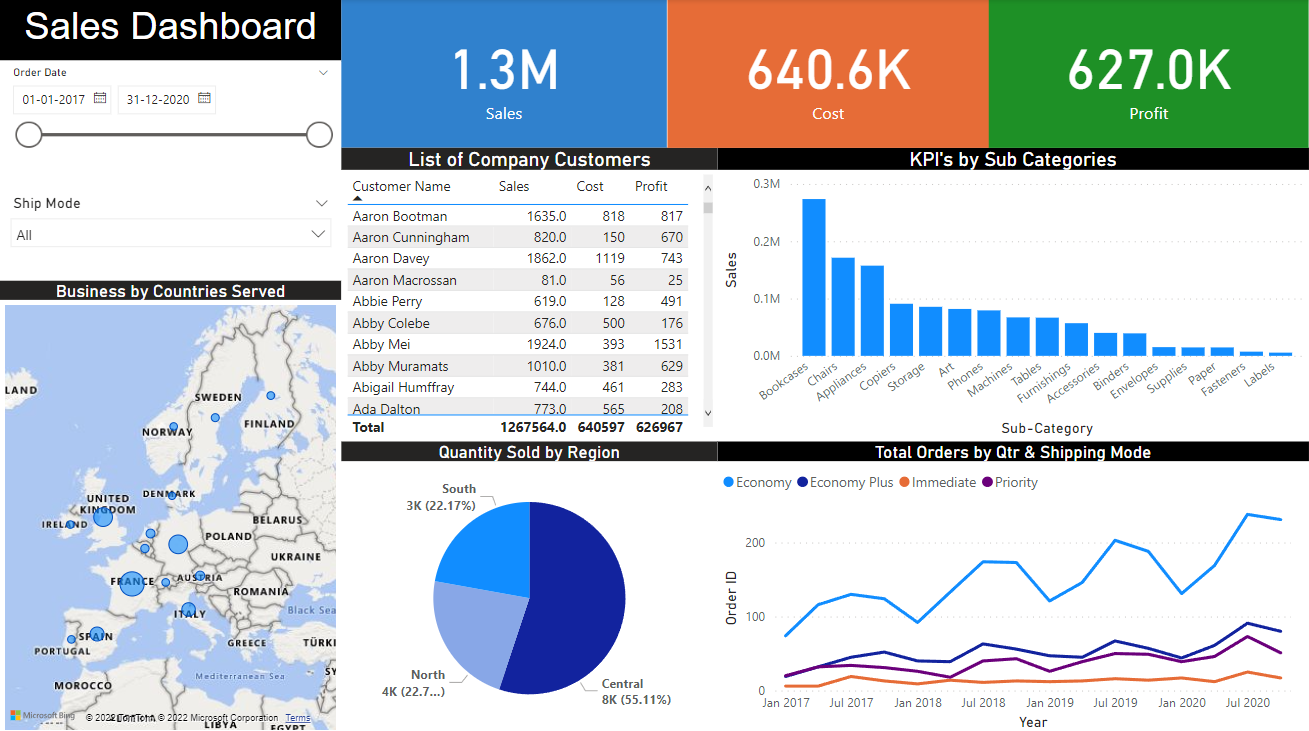

The dashboard page shown, as its layout file describes it:
{"tool":"powerbi","page":{"name":"Page 1","canvas":[1280,720],"ordinal":0},"visuals":[{"type":"card","fields":{"Values":["List of Orders.Sales"]},"box":[333.7,0,318.6,145.6],"z":0},{"type":"tableEx","title":"List of Company Customers","fields":{"Values":["List of Orders.Customer Name","List of Orders.Sales","List of Orders.Cost","List of Orders.Profit"]},"box":[333.7,145.6,368.1,287],"z":1000},{"type":"clusteredColumnChart","title":"KPI''s by Sub Categories","fields":{"Y":["List of Orders.Sales"],"Category":["List of Orders.Sub-Category"]},"box":[701.7,145.5,578.2,287.3],"z":2000},{"type":"lineChart","title":"Total Orders by Qtr & Shipping Mode","fields":{"Y":["List of Orders.Order ID"],"Category":["List of Orders.Order Date.Variation.Date Hierarchy.Year","List of Orders.Order Date.Variation.Date Hierarchy.Quarter","List of Orders.Order Date.Variation.Date Hierarchy.Month","List of Orders.Order Date.Variation.Date Hierarchy.Day"],"Series":["List of Orders.Ship Mode"]},"box":[701.8,432.6,578.2,287],"z":3000},{"type":"card","fields":{"Values":["List of Orders.Cost"]},"box":[652.4,0,314.5,145.6],"z":4000},{"type":"card","fields":{"Values":["List of Orders.Profit"]},"box":[966.9,0,313.1,145.6],"z":5000},{"type":"pieChart","title":"Quantity Sold by Region","fields":{"Y":["List of Orders.Quantity"],"Category":["List of Orders.Region"]},"box":[333.7,432.6,368.1,287],"z":6000},{"type":"map","title":"Business by Countries Served","fields":{"Category":["List of Orders.Country"],"Size":["List of Orders.Sales"]},"box":[0,274.7,333.7,445],"z":7000},{"type":"textbox","box":[0,0,333.7,60.4],"z":8000},{"type":"slicer","fields":{"Values":["List of Orders.Order Date"]},"box":[0,60.4,333.7,126.4],"z":9000},{"type":"slicer","fields":{"Values":["List of Orders.Ship Mode"]},"box":[0,185.8,333.7,89.2],"z":10000}]}

Visuals, with their boxes in screenshot pixels (x1, y1, x2, y2), scaled from the page's 1280x720 canvas onto the 1309x731 screenshot:
card - List of Orders.Sales: 341:0:667:148
"List of Company Customers" tableEx: 341:148:718:439
"KPI''s by Sub Categories" clusteredColumnChart: 718:148:1308:439
"Total Orders by Qtr & Shipping Mode" lineChart: 718:439:1308:730
card - List of Orders.Cost: 667:0:989:148
card - List of Orders.Profit: 989:0:1308:148
"Quantity Sold by Region" pieChart: 341:439:718:730
"Business by Countries Served" map: 0:279:341:730
textbox: 0:0:341:61
slicer - List of Orders.Order Date: 0:61:341:190
slicer - List of Orders.Ship Mode: 0:189:341:279
